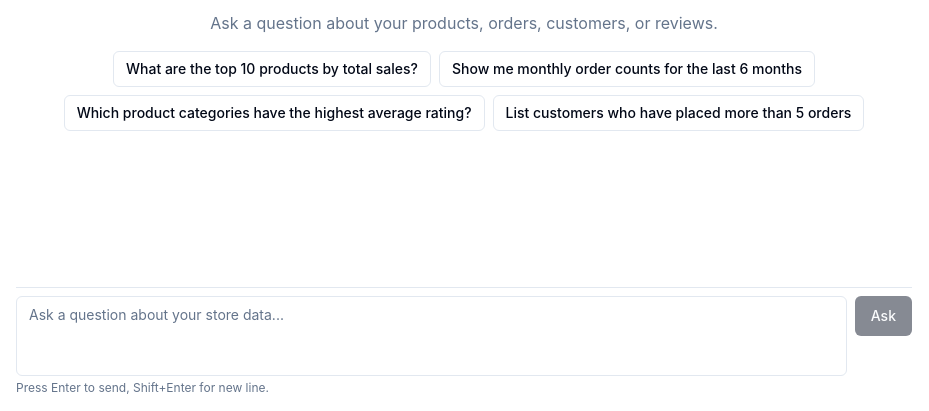
Test: AiAnalyticsChat › clicking a suggested question fills the input
Click the button "What are the top 10 products by total sales?": {"x": 272, "y": 69} [113,51,431,87]
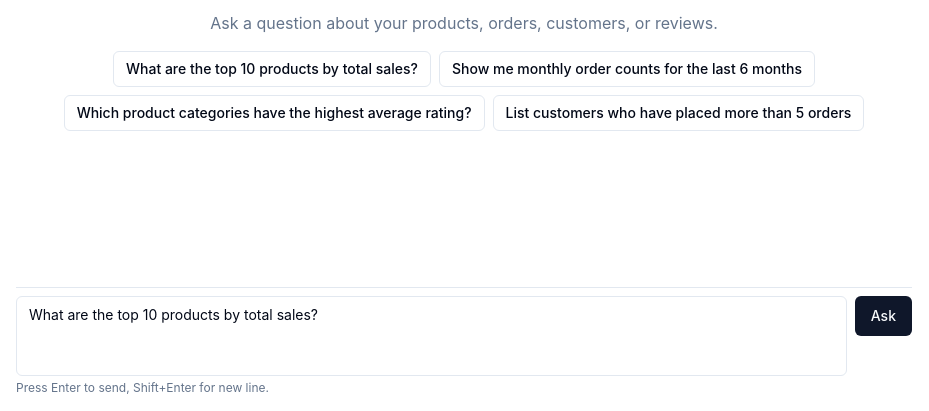
expect the text box with placeholder "Ask a question about your store data..." holds "What are the top 10 products by total sales?": met, box [16,296,847,376]
